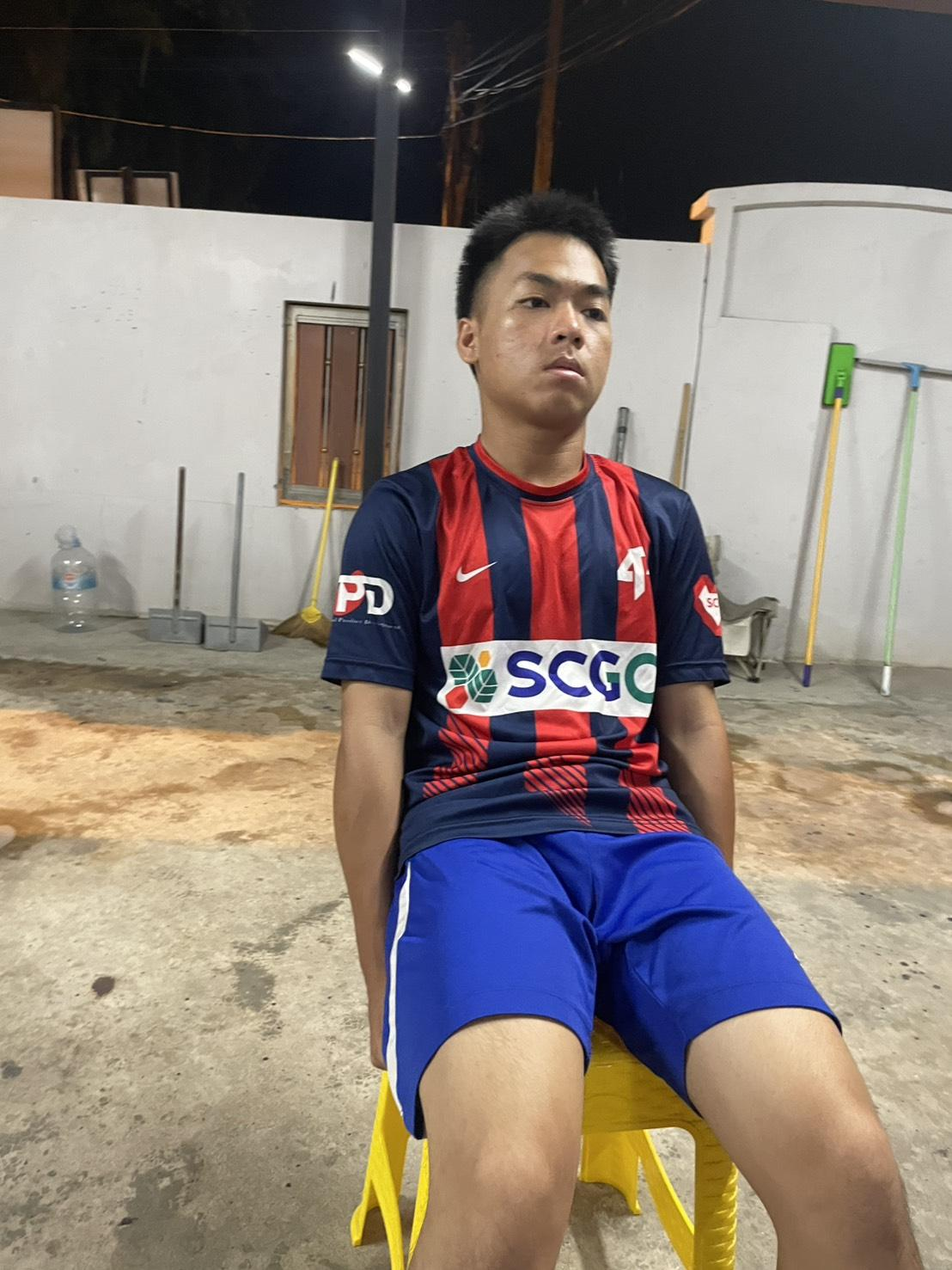BadPosture: (324, 192, 733, 939)
